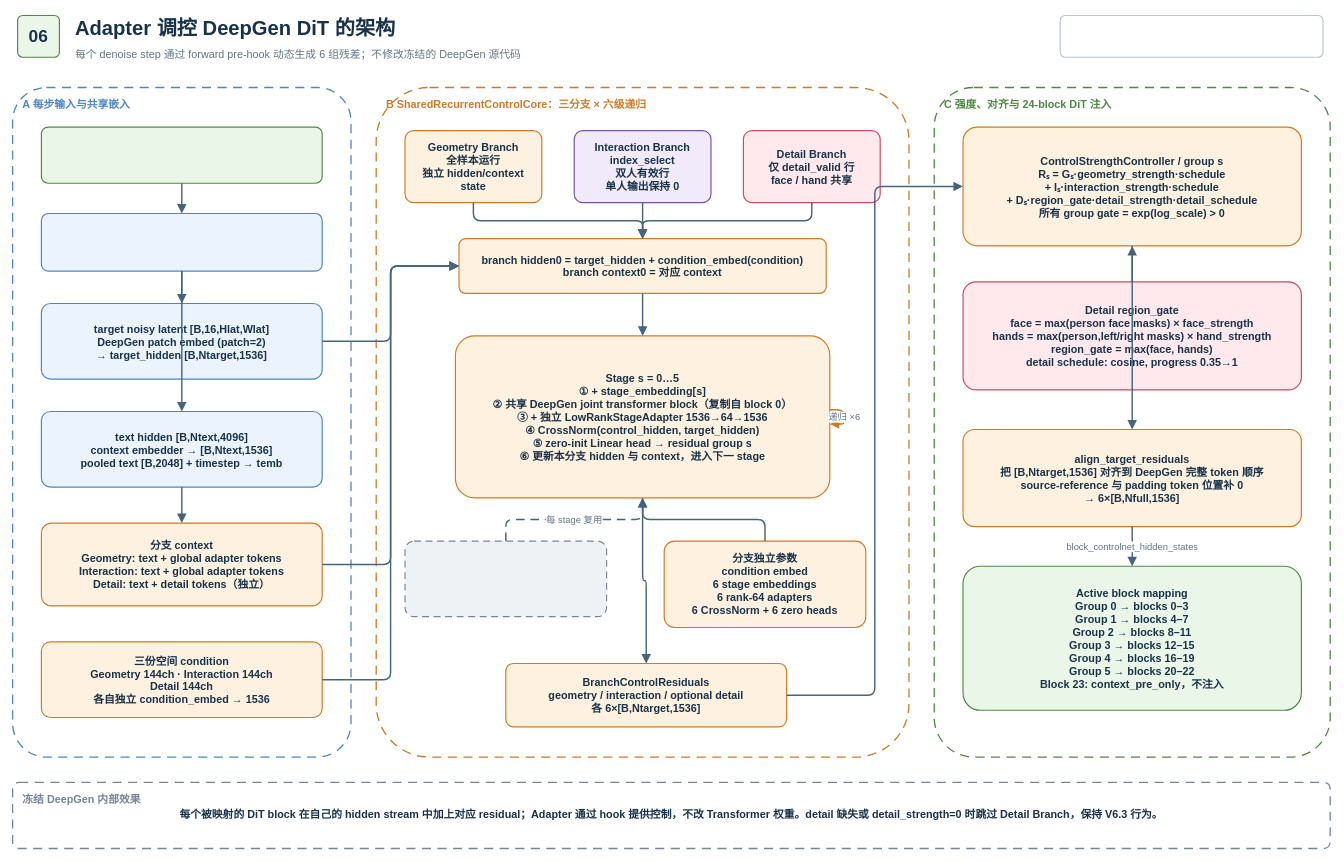
The diagram is 1344 pixels wide and 861 high, and some of its shapes have lost their labels. Here are the shapes that lost their labels. From the top down, the centre of each, then its label:
the point at 1191,36: 蓝=输入 绿=编码 紫=推理 橙=Adapter 红=Detail 灰=冻结
the point at 181,154: ControlledDeepGenPipeline transformer.register_forward_pre_hook
the point at 181,242: step k / K progress = k / (K-1) timestep [B]
the point at 505,578: 共享权重 pos_embed time_text_embed context_embedder 1× joint transformer block
